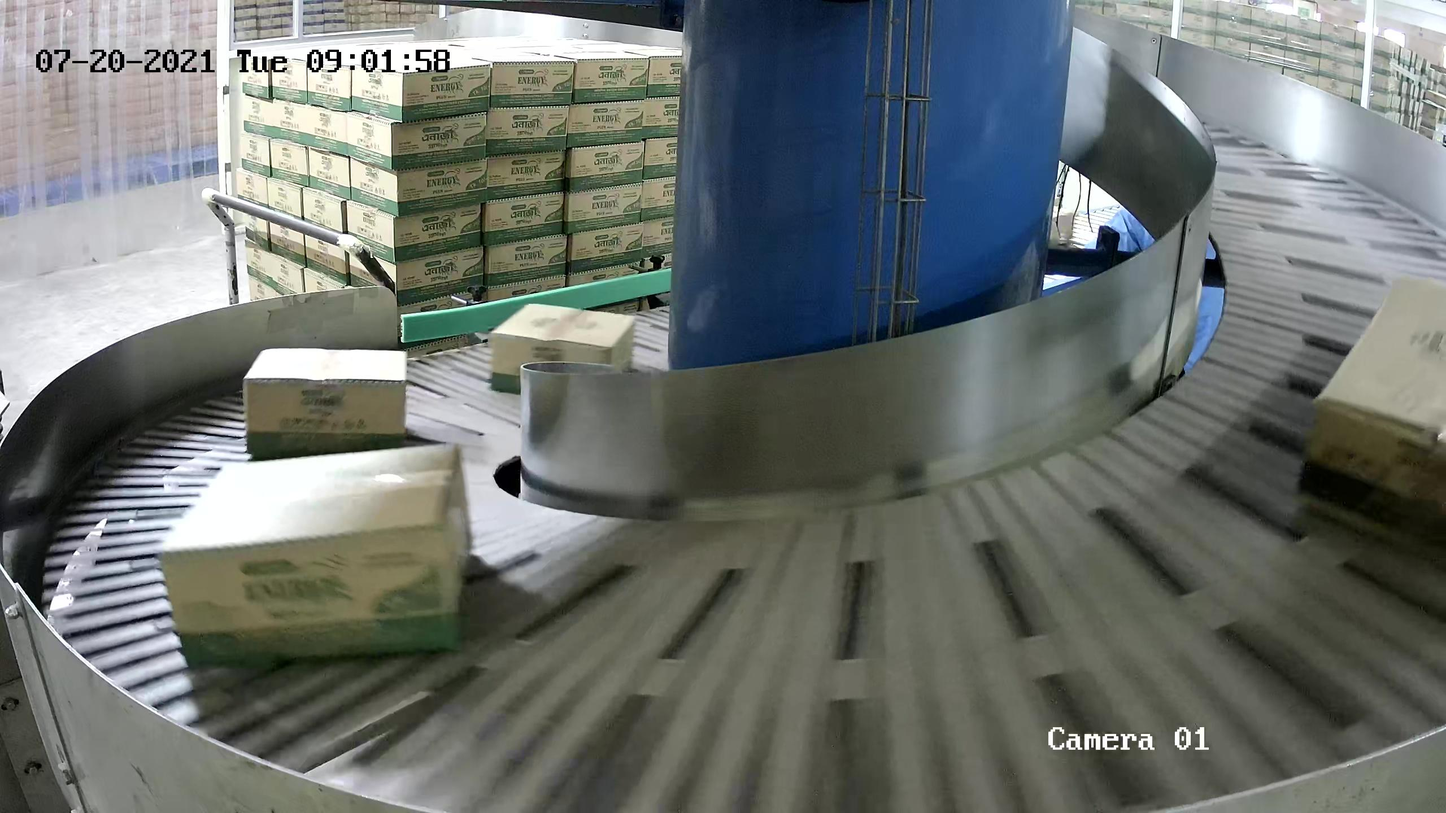Box: (157, 440, 473, 666), (243, 345, 409, 457), (488, 301, 636, 395)
